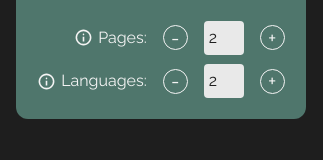
Test: WebFeatures › decreases the amount of languages when the corresponding + button is pressed
This screenshot has width=323, height=160.
Click the button named "Remove language" at (175, 81), box [163,69,188,94]
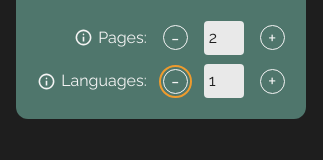
Expected: the number field labelled "languages:" holds "1", [204,64,244,98]
